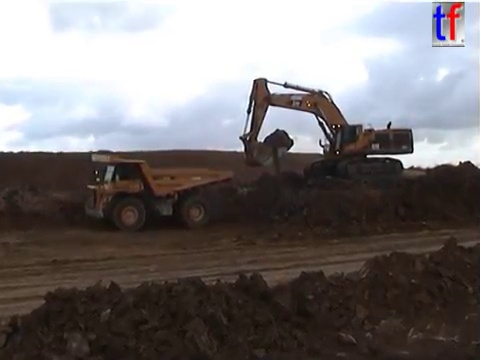excavator: (237, 76, 416, 183)
truck: (81, 151, 234, 231)
